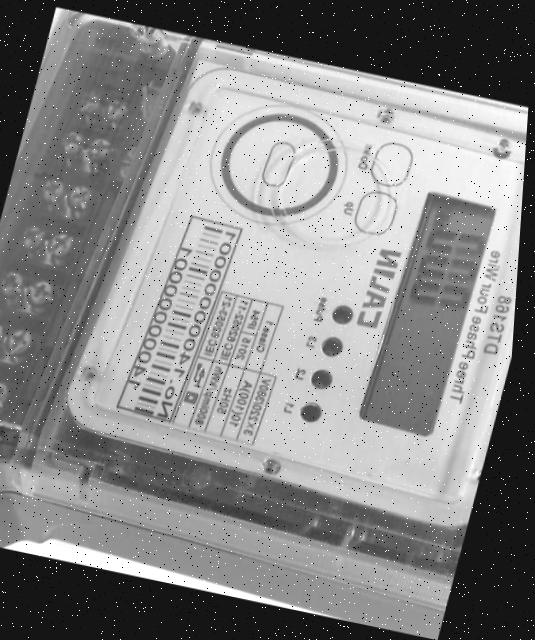electric-meter-detection: (0, 11, 528, 640)
